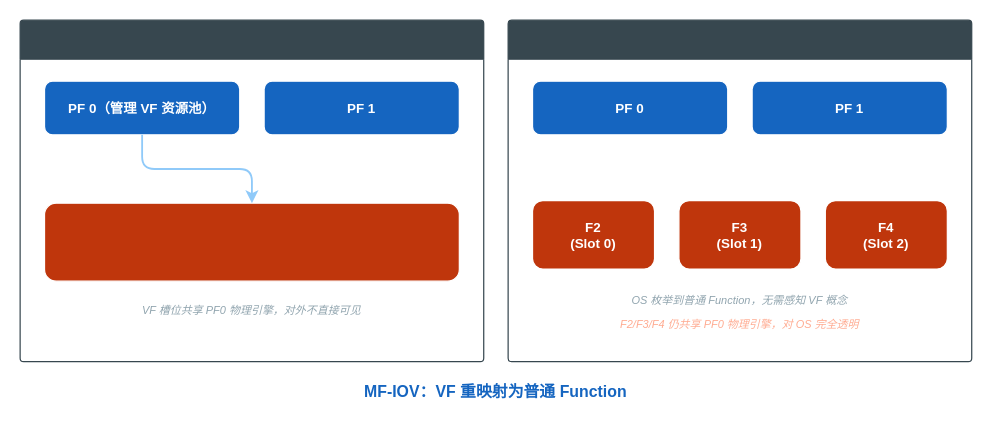
Image size: 992x428. Some labels were removed from this diagram. Each missing label, with the box of its shape:
OS 看到的视图: (507, 19, 972, 362)
VF 资源池 Slot 0 / Slot 1 / Slot 2 / ... / Slot N: (43, 202, 459, 281)
硬件内部视图: (19, 19, 484, 362)
